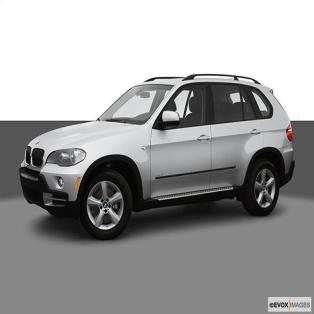Auto: (20, 72, 295, 239)
